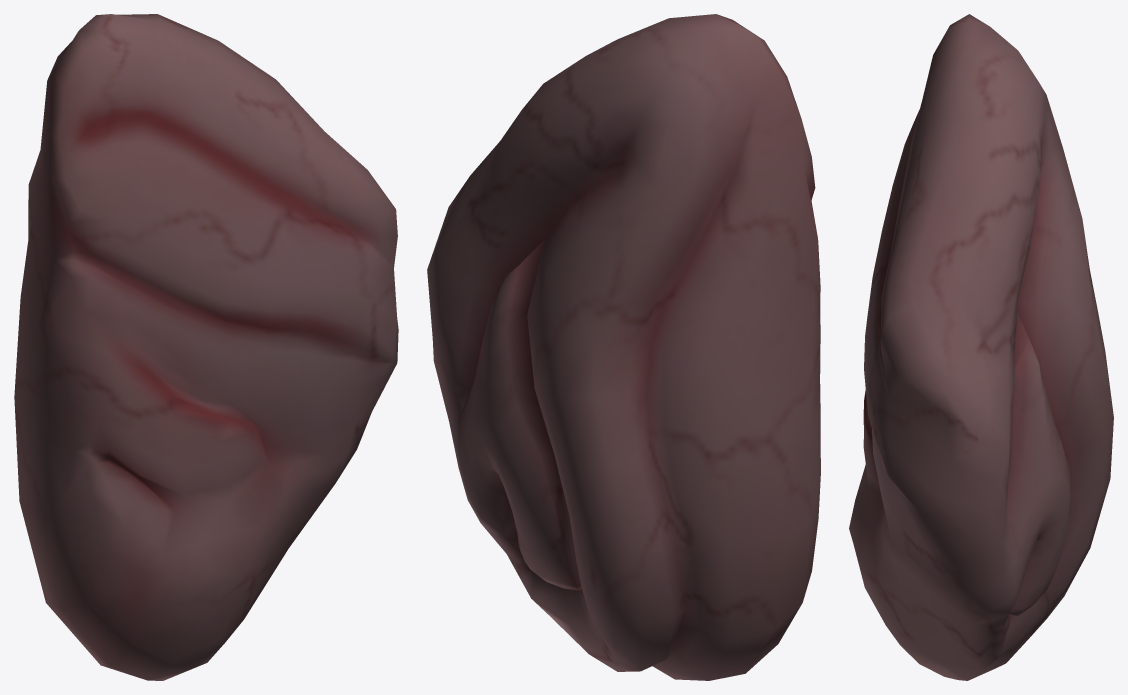
File: Occipital_Lob.gltf
3 renders of one model, left to right at view 1: azimuth 30°, elevation 25°; view 2: azimuth 150°, elevation 25°; view 3: azimuth 270°, elevation 25°, orthographic. The views are drawn at different scales.
Visible parts, largest first — view 1: Occipital_Lob_Left; view 2: Occipital_Lob_Left; view 3: Occipital_Lob_Left.
Part boxes in pixels (x1=…): Occipital_Lob_Left: x1=14, y1=14, x2=398, y2=680; Occipital_Lob_Left: x1=427, y1=14, x2=820, y2=680; Occipital_Lob_Left: x1=849, y1=14, x2=1113, y2=680.
Size of the model in its own units: 4.24 by 7.45 by 2.87.
1 material, 1 textured.
